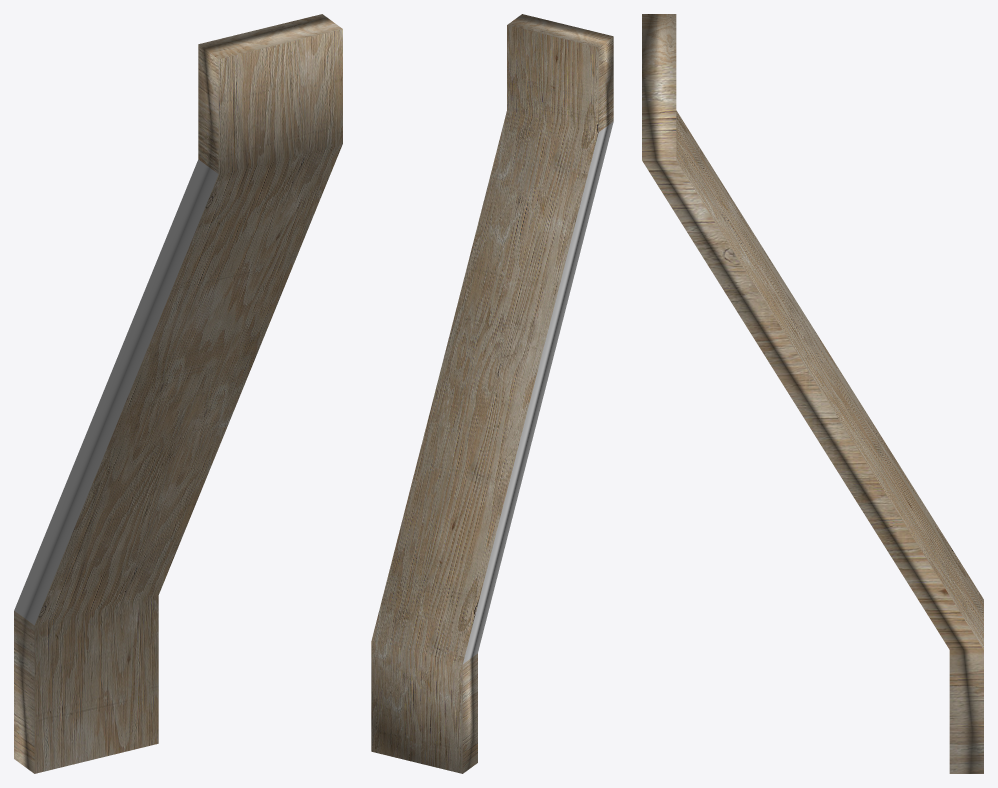
Rendered from wooden_ramp.DAE.
3 renders of one model, left to right at view 1: azimuth 30°, elevation 25°; view 2: azimuth 150°, elevation 25°; view 3: azimuth 270°, elevation 25°, orthographic. The views are drawn at different scales.
Visible parts, largest first — view 1: adventureplaygound01a; view 2: adventureplaygound01a; view 3: adventureplaygound01a.
Part boxes in pixels (x1,y1,x2,y2): adventureplaygound01a: [14, 14, 342, 773]; adventureplaygound01a: [371, 14, 613, 773]; adventureplaygound01a: [642, 14, 983, 773].
Size of the model in its own units: 13.78 by 90.16 by 39.37.
